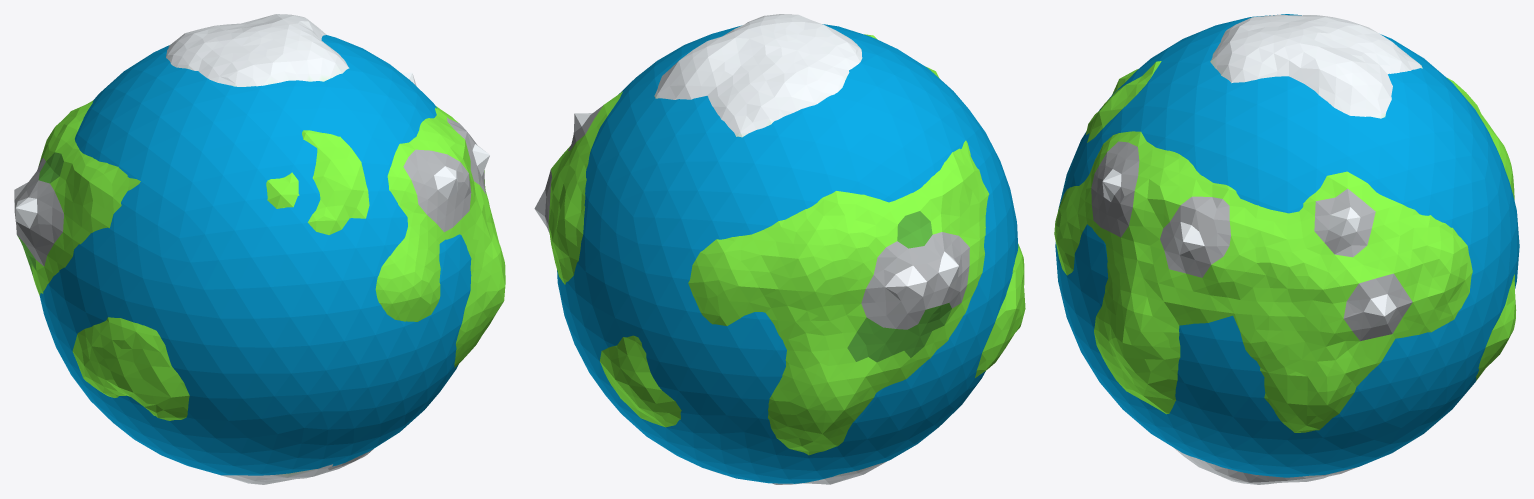
File: earth.glb
The picture shows the model from 3 angles, left to right: view 1: azimuth 30°, elevation 25°; view 2: azimuth 150°, elevation 25°; view 3: azimuth 270°, elevation 25°; orthographic projection. The views are drawn at different scales.
Parts seen in each view (by area): view 1: water, earth; view 2: water, earth; view 3: earth, water.
Boxes of the visible parts, x1=… form: water: x1=39, y1=35, x2=471, y2=475; earth: x1=14, y1=14, x2=505, y2=484; water: x1=557, y1=24, x2=1018, y2=483; earth: x1=534, y1=14, x2=1025, y2=484; earth: x1=1054, y1=14, x2=1516, y2=484; water: x1=1055, y1=14, x2=1519, y2=477.
Bounding box in the file's own units: 20.85 × 20.89 × 20.04.
